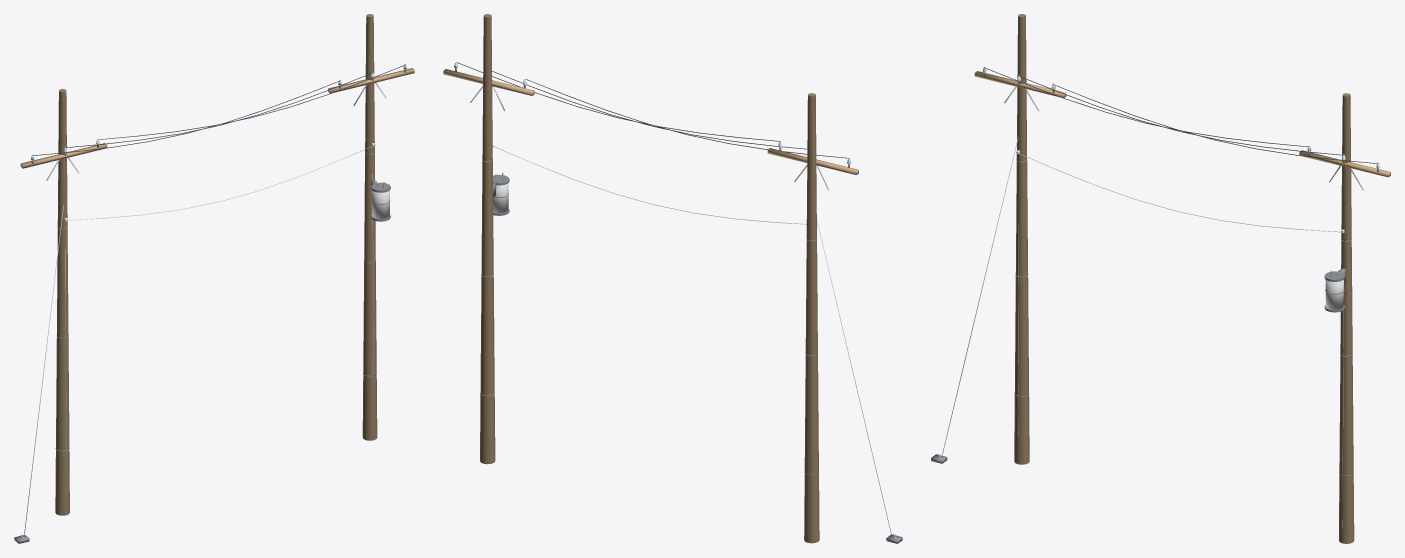
File: PowerPole_Span.fbx
3 views of the same model, side by side, from view 1: azimuth 30°, elevation 25°; view 2: azimuth 150°, elevation 25°; view 3: azimuth 330°, elevation 25° (orthographic). The views are drawn at different scales.
Parts seen in each view (by area): view 1: LOD0; view 2: LOD0; view 3: LOD0.
Part boxes in pixels (left/top/right/bottom): LOD0: left=14, top=14, right=414, bottom=543; LOD0: left=443, top=14, right=902, bottom=543; LOD0: left=931, top=14, right=1390, bottom=543.
Size of what is drawn, in the model's own units: 1079 by 1050 by 112.
